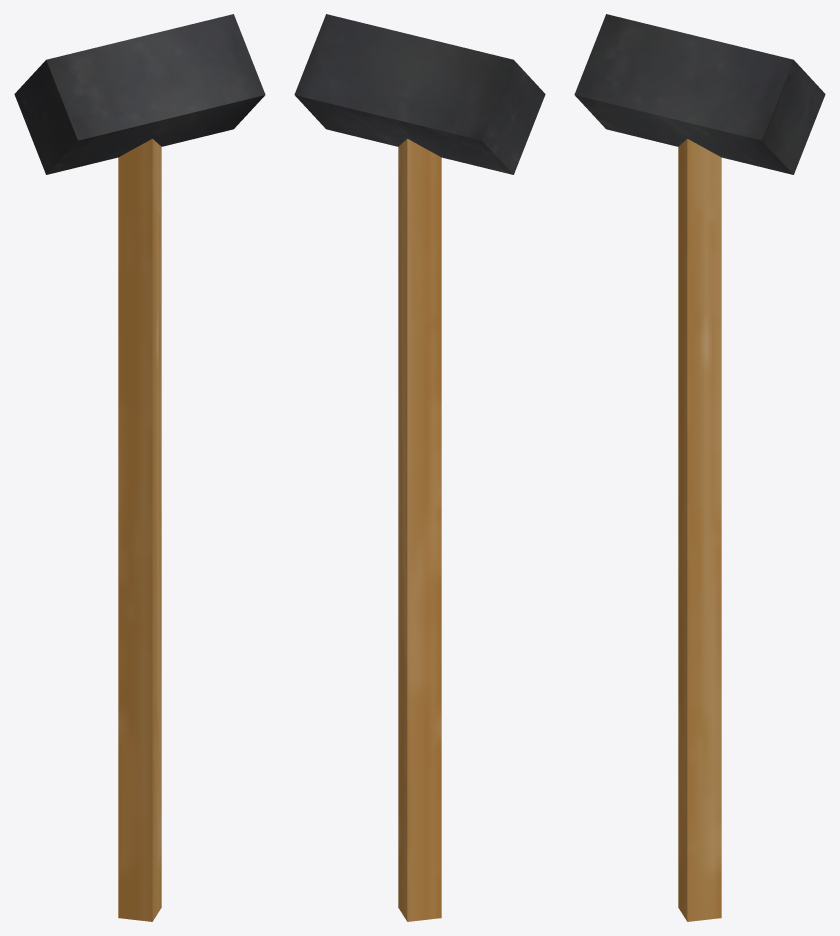
File: Sledgehammer.fbx
The picture shows the model from 3 angles, left to right: view 1: azimuth 30°, elevation 25°; view 2: azimuth 150°, elevation 25°; view 3: azimuth 330°, elevation 25°; orthographic projection.
Visible parts, largest first — view 1: Sledge_Hammer_01; view 2: Sledge_Hammer_01; view 3: Sledge_Hammer_01.
Part boxes in pixels (x1,y1,x2,y2): Sledge_Hammer_01: (14,14,265,921); Sledge_Hammer_01: (294,14,545,921); Sledge_Hammer_01: (574,14,825,921).
Size of the model in its own units: 0.2587 by 1.15 by 0.152.
